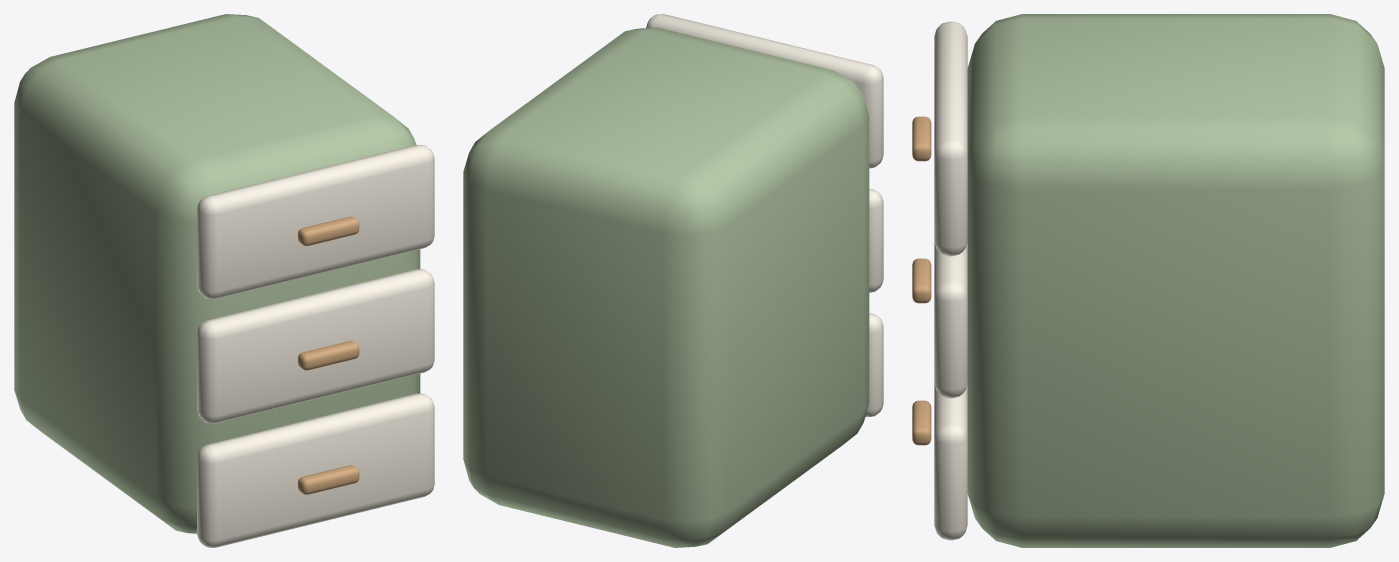
The model's file is rolling-drawer.glb.
The picture shows the model from 3 angles, left to right: view 1: azimuth 30°, elevation 25°; view 2: azimuth 150°, elevation 25°; view 3: azimuth 270°, elevation 25°; orthographic projection. The views are drawn at different scales.
Parts seen in each view (by area): view 1: carcass.002, drawer-front, drawer-front.001, drawer-front.002, handle.011, handle.010, handle.012; view 2: carcass.002, drawer-front.002, drawer-front, drawer-front.001; view 3: carcass.002, drawer-front.002, drawer-front.001, drawer-front, handle.011, handle.010, handle.012.
Part boxes in pixels (<box>): carcass.002: <box>14,14,420,533</box>; drawer-front: <box>197,393,434,547</box>; drawer-front.001: <box>197,269,434,423</box>; drawer-front.002: <box>197,145,434,299</box>; handle.011: <box>298,341,359,370</box>; handle.010: <box>298,465,359,494</box>; handle.012: <box>298,216,359,245</box>; carcass.002: <box>463,27,869,547</box>; drawer-front.002: <box>646,14,883,168</box>; drawer-front: <box>865,313,883,416</box>; drawer-front.001: <box>869,188,883,292</box>; carcass.002: <box>967,14,1384,547</box>; drawer-front.002: <box>934,21,967,256</box>; drawer-front.001: <box>934,242,967,398</box>; drawer-front: <box>934,384,967,540</box>; handle.011: <box>912,258,931,303</box>; handle.010: <box>912,400,931,445</box>; handle.012: <box>912,116,931,161</box>.
Bounding box in the file's own units: 0.45 × 0.62 × 0.623.
